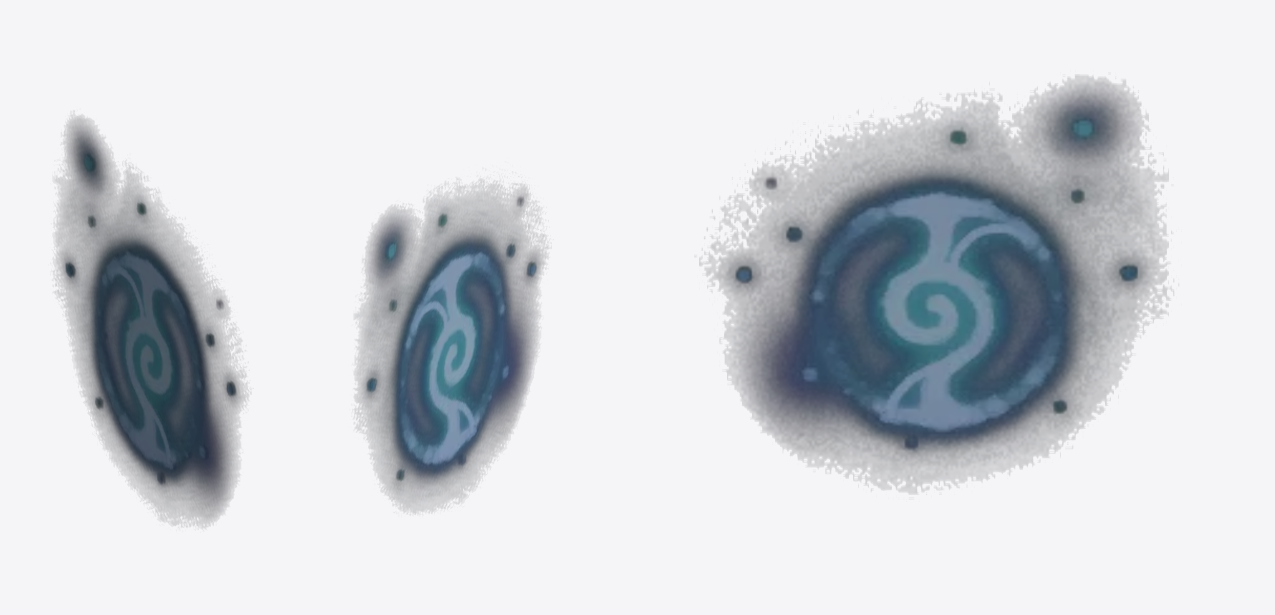
3 renders of one model, left to right at view 1: azimuth 30°, elevation 25°; view 2: azimuth 150°, elevation 25°; view 3: azimuth 270°, elevation 25°, orthographic. The views are drawn at different scales.
Size of the model in its own units: 0.0288 by 4.18 by 4.18.
Materials: 3 (3 with a texture image).
